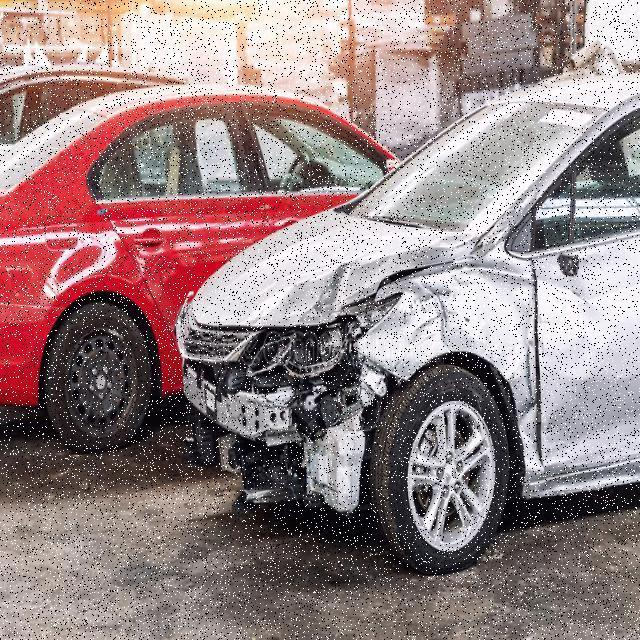bonnet-dent: (174, 215, 382, 327)
doorouter-dent: (532, 242, 639, 469)
fender-dent: (382, 254, 534, 424)
front-bumper-dent: (174, 335, 380, 520)
